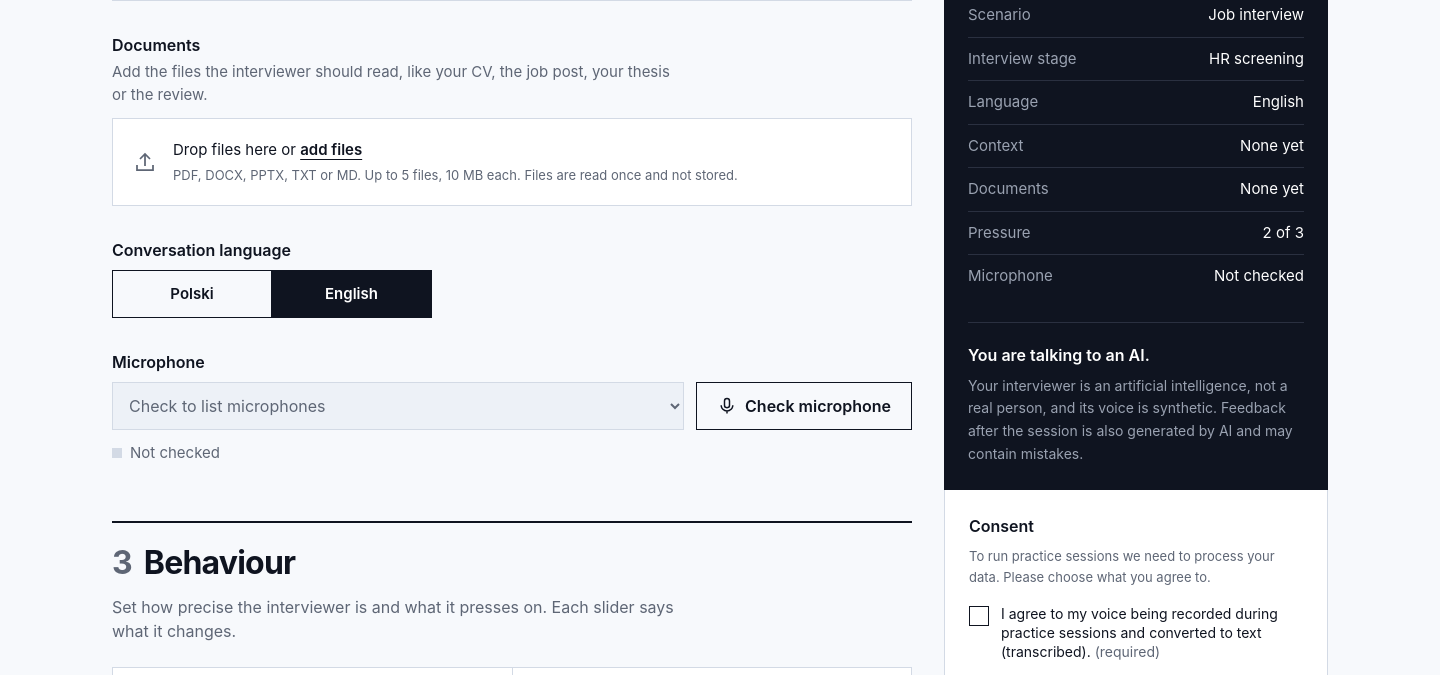
switches the conversation language
(page scrolled)
Click the radio button labelled "Polski" at (192, 294), box left=112, top=270, right=272, bottom=318
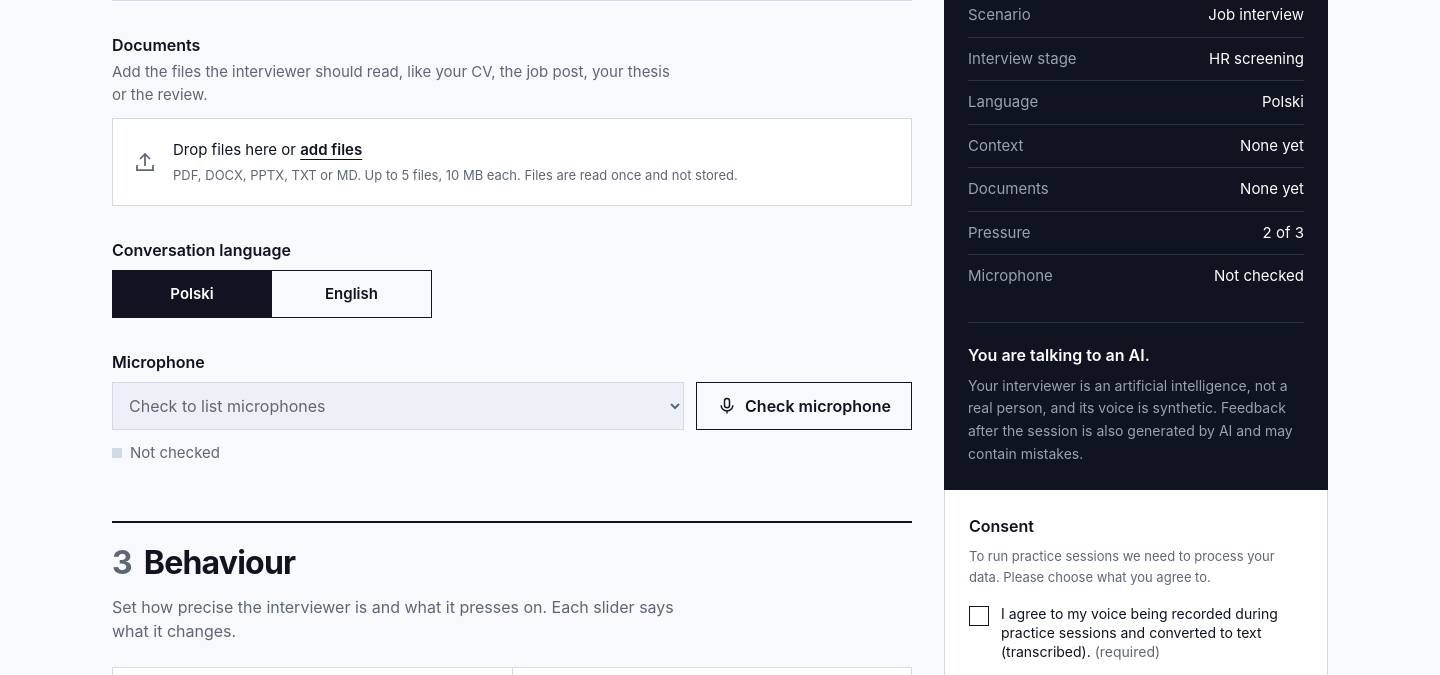
Expected: the radio button labelled "Polski" is checked, left=112, top=270, right=272, bottom=318
Expected: the radio button labelled "English" is not checked, left=272, top=270, right=432, bottom=318
